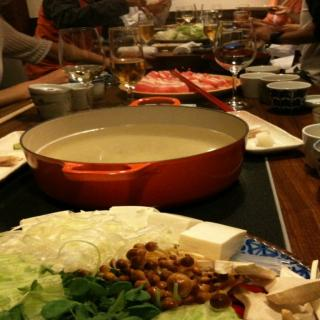Salad: (0, 202, 320, 318)
